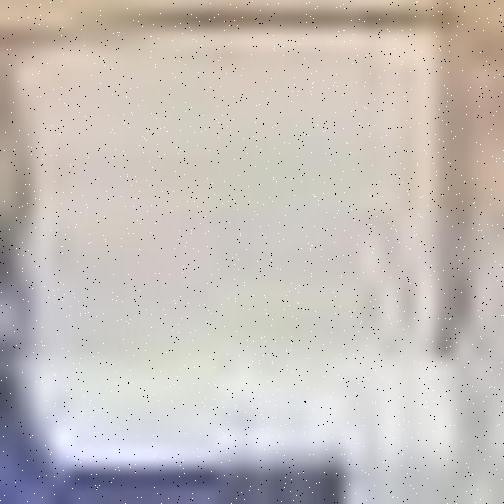Other: (27, 37, 443, 470)
